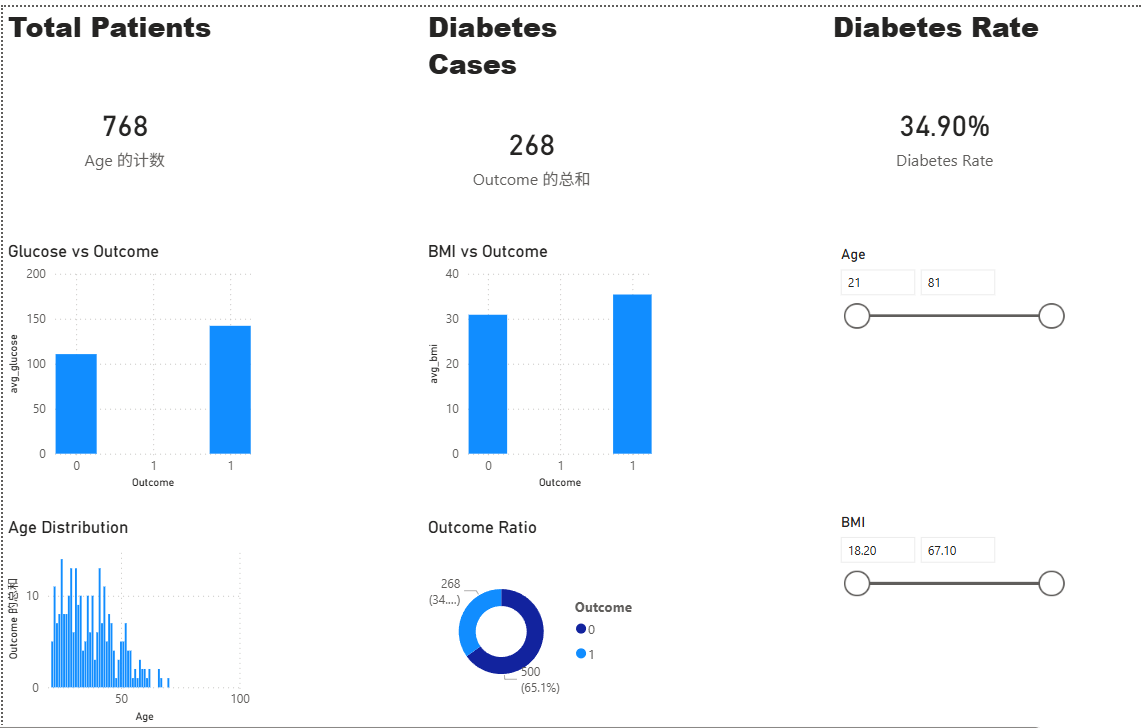

The page's visual inventory and layout, read from the dashboard file:
{"tool":"powerbi","page":{"name":"第 1 页","canvas":[1280,720],"ordinal":0},"visuals":[{"type":"card","title":"Total Patients","fields":{"Values":["CountNonNull(diabetes_clean.Age)"]},"box":[0,0,244.1,219.1],"z":0},{"type":"card","title":"Diabetes Cases","fields":{"Values":["Sum(diabetes_clean.Outcome)"]},"box":[420.6,0,217.6,219.1],"z":1000},{"type":"card","title":"Diabetes Rate","fields":{"Values":["diabetes_clean.Diabetes Rate"]},"box":[825,0,233.8,219.1],"z":2000},{"type":"donutChart","title":"Outcome Ratio","fields":{"Y":["CountNonNull(diabetes_clean.Outcome)"],"Category":["diabetes_clean.Outcome"]},"box":[420.6,510.3,233.8,210.3],"z":3000},{"type":"clusteredColumnChart","title":"Glucose vs Outcome","fields":{"Category":["diabetes_clean.Outcome"],"Y":["diabetes_clean.avg_glucose"]},"box":[0,233.8,252.9,252.9],"z":4000},{"type":"clusteredColumnChart","title":"BMI vs Outcome","fields":{"Y":["diabetes_clean.avg_bmi"],"Category":["diabetes_clean.Outcome"]},"box":[420.6,233.8,233.8,252.9],"z":5000},{"type":"columnChart","title":"Age Distribution","fields":{"Y":["Sum(diabetes_clean.Outcome)"],"Category":["diabetes_clean.Age"]},"box":[0,510.3,252.9,210.3],"z":6000},{"type":"slicer","fields":{"Values":["diabetes_clean.Age"]},"box":[825,233.8,244.1,219.1],"z":7000},{"type":"slicer","fields":{"Values":["diabetes_clean.BMI"]},"box":[825,501.5,244.1,219.1],"z":8000}]}

Visuals, with their boxes on the page's 1280x720 design canvas (x1, y1, x2, y2). These are canvas units, not pixel positions in the 1142x728 screenshot, which may show the page scaled, cropped or inside an application window:
"Total Patients" card: [0,0,244,219]
"Diabetes Cases" card: [421,0,638,219]
"Diabetes Rate" card: [825,0,1059,219]
"Outcome Ratio" donutChart: [421,510,654,721]
"Glucose vs Outcome" clusteredColumnChart: [0,234,253,487]
"BMI vs Outcome" clusteredColumnChart: [421,234,654,487]
"Age Distribution" columnChart: [0,510,253,721]
slicer - diabetes_clean.Age: [825,234,1069,453]
slicer - diabetes_clean.BMI: [825,502,1069,721]
